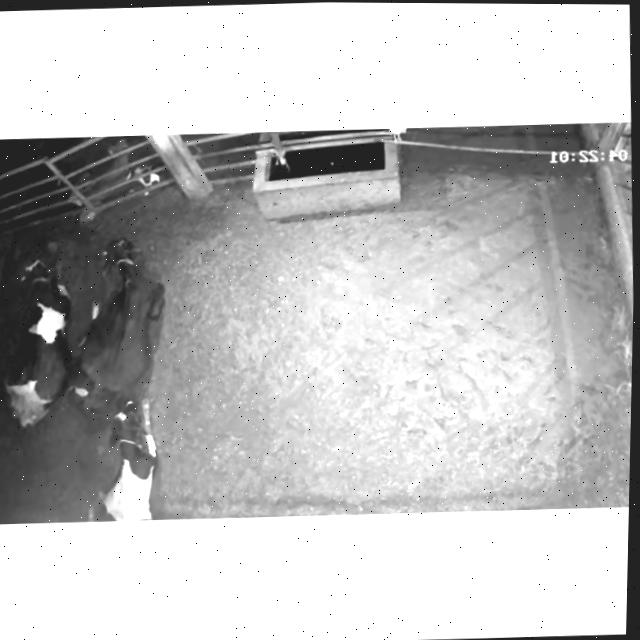lay: (62, 236, 165, 401), (5, 241, 71, 425), (87, 398, 159, 521)
